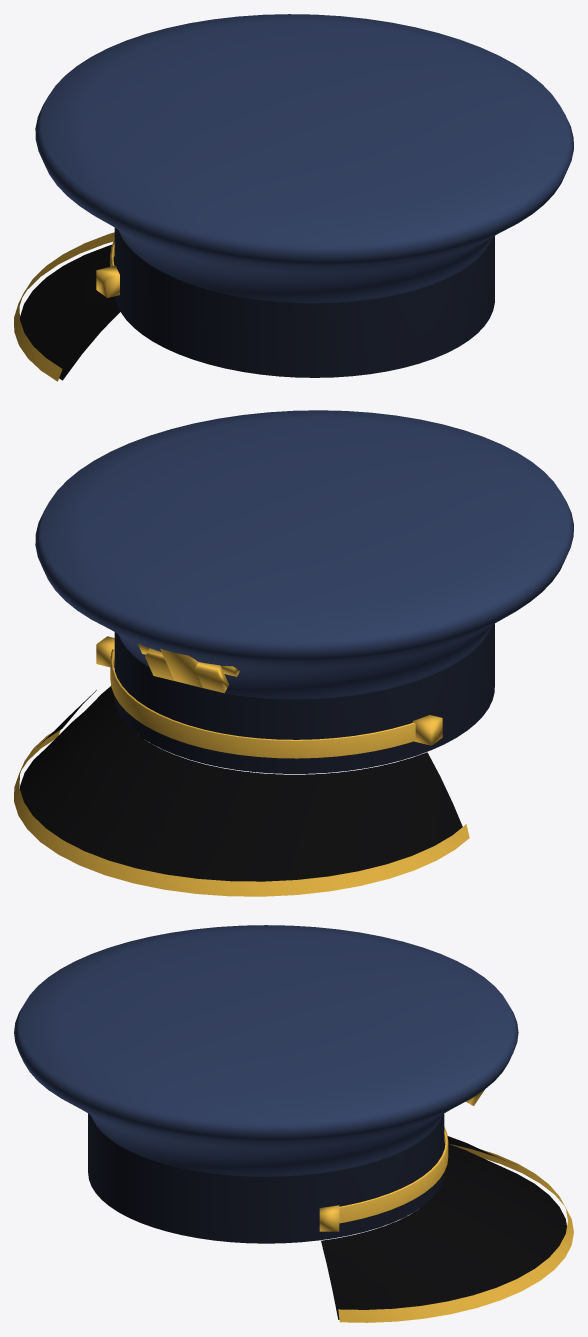
File: officer_cap.obj
The picture shows the model from 3 angles, top to bottom: view 1: azimuth 30°, elevation 25°; view 2: azimuth 150°, elevation 25°; view 3: azimuth 270°, elevation 25°; orthographic projection. The views are drawn at different scales.
Visible parts, largest first — view 1: Crown, Band, Visor, Gold; view 2: Crown, Visor, Band, Gold; view 3: Crown, Visor, Band, Gold.
Boxes of the visible parts, bbox=[...] form: Crown: bbox=[35, 14, 573, 302]; Band: bbox=[114, 228, 494, 377]; Visor: bbox=[20, 235, 120, 380]; Gold: bbox=[14, 232, 119, 381]; Crown: bbox=[35, 410, 573, 698]; Visor: bbox=[20, 686, 462, 881]; Band: bbox=[114, 623, 494, 773]; Gold: bbox=[14, 636, 469, 896]; Crown: bbox=[14, 925, 518, 1176]; Visor: bbox=[321, 1136, 566, 1319]; Band: bbox=[88, 1113, 444, 1243]; Gold: bbox=[319, 1089, 573, 1322].
Size of the model in its own units: 1.94 by 1.02 by 2.28.
